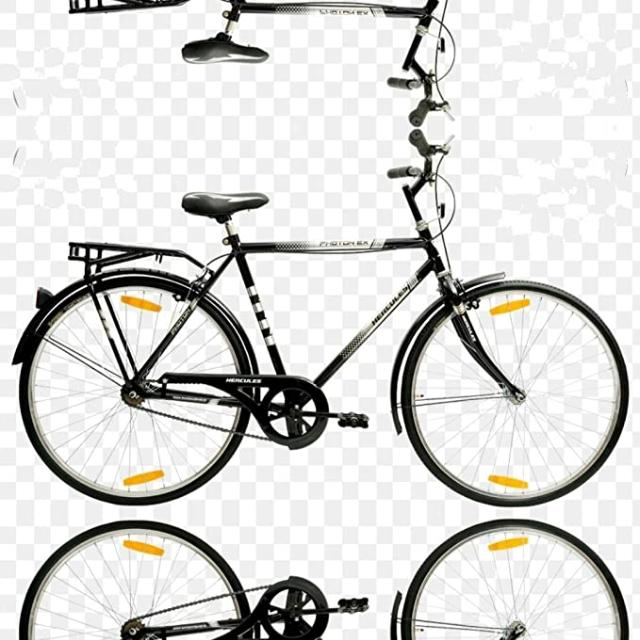obstacle: (11, 135, 640, 507), (11, 518, 640, 640), (11, 0, 640, 119)
